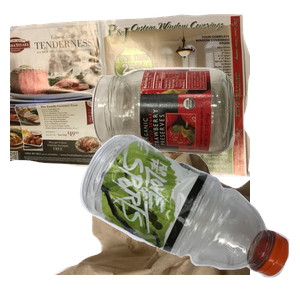glass: (89, 65, 300, 212)
paper: (10, 11, 250, 180)
plastic: (77, 132, 300, 300)
trash: (52, 120, 292, 300)
